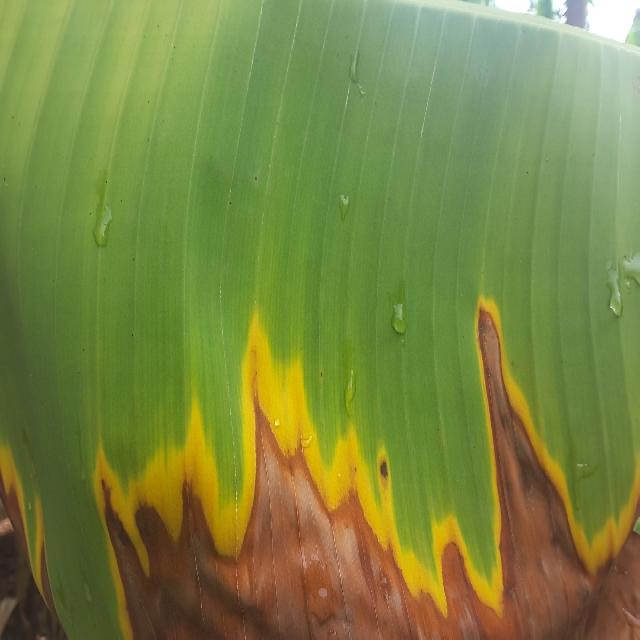Cordana: (82, 286, 640, 640), (0, 387, 72, 628)
